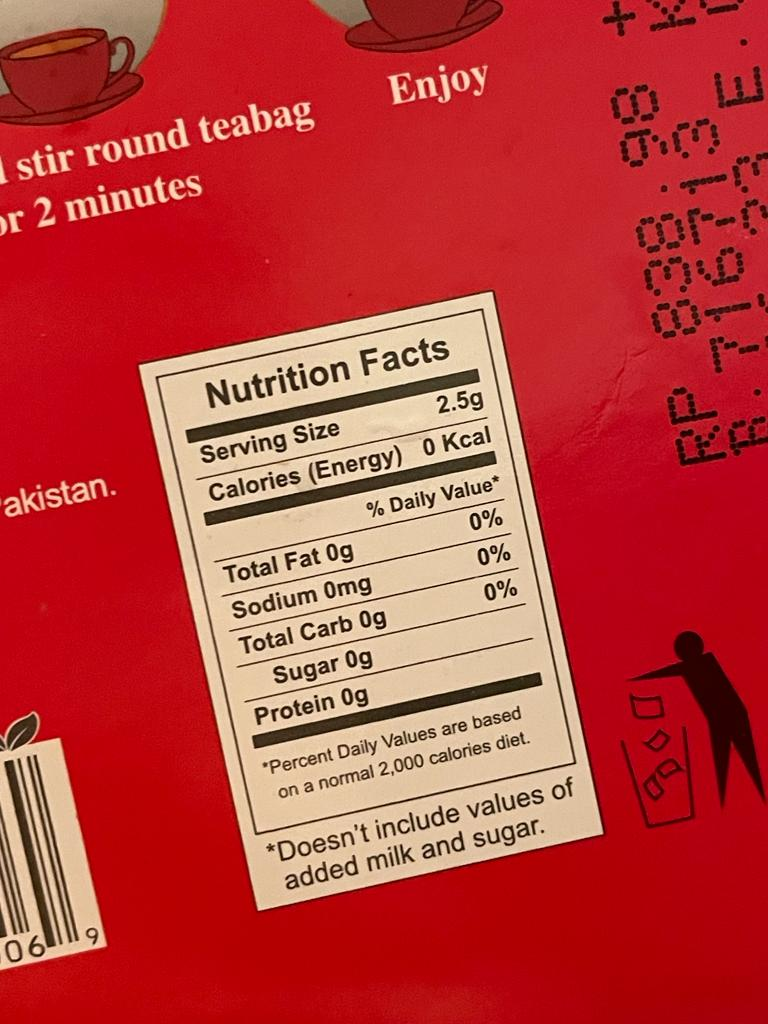table: (129, 289, 611, 924)
